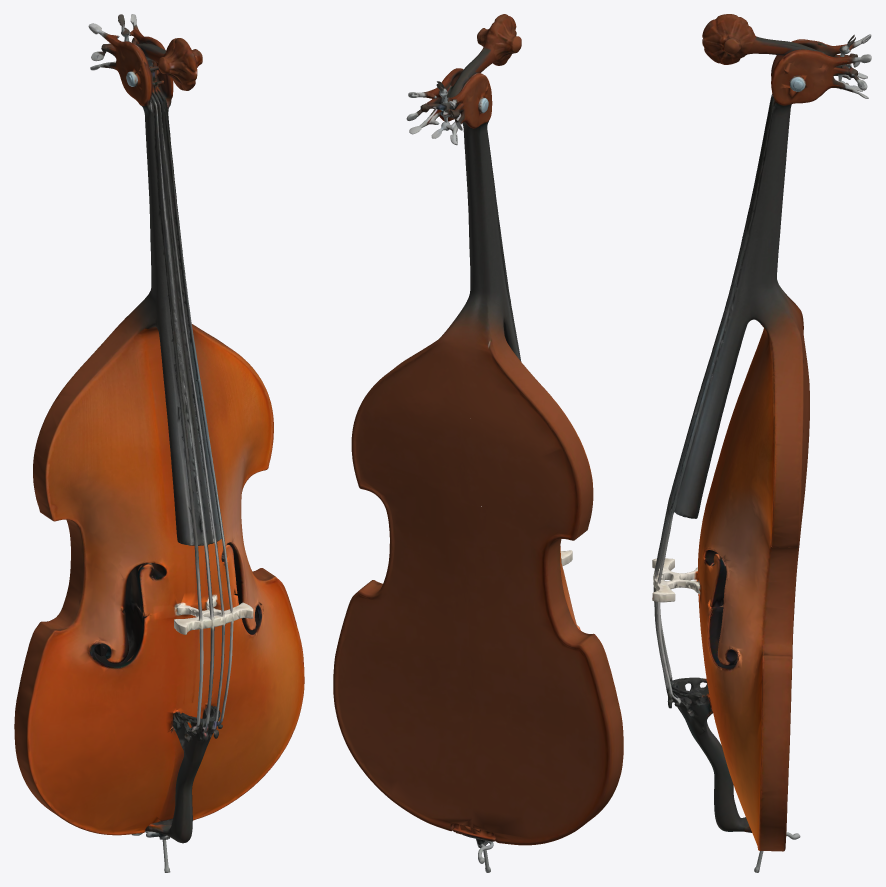
Rendered from contrabaixo.glb.
3 views of the same model, side by side, from view 1: azimuth 30°, elevation 25°; view 2: azimuth 150°, elevation 25°; view 3: azimuth 270°, elevation 25° (orthographic).
Visible parts, largest first — view 1: tripo_node_100c1be1-8455-481c-bd9f-a0a0bd93ef2e; view 2: tripo_node_100c1be1-8455-481c-bd9f-a0a0bd93ef2e; view 3: tripo_node_100c1be1-8455-481c-bd9f-a0a0bd93ef2e.
Boxes of the visible parts, <box> form: tripo_node_100c1be1-8455-481c-bd9f-a0a0bd93ef2e: <box>14,14,304,872</box>; tripo_node_100c1be1-8455-481c-bd9f-a0a0bd93ef2e: <box>333,14,623,872</box>; tripo_node_100c1be1-8455-481c-bd9f-a0a0bd93ef2e: <box>652,14,871,872</box>.
Bounding box in the file's own units: 0.3377 × 0.9805 × 0.2274.
1 material, 1 textured.
